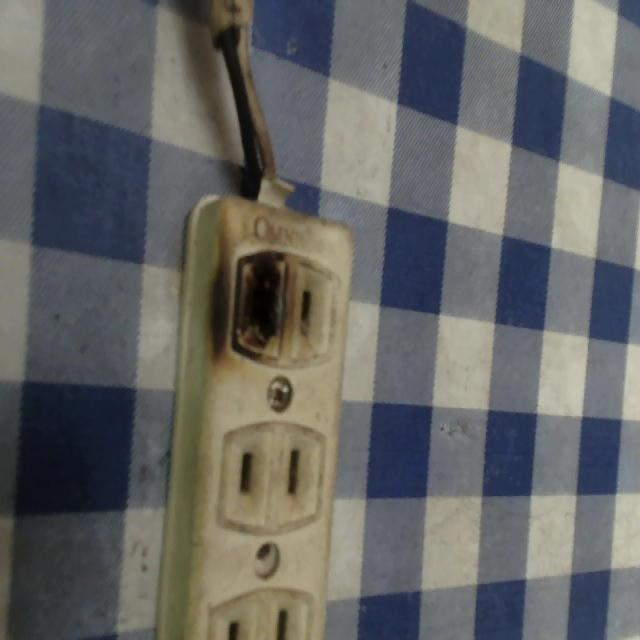-: (223, 242, 295, 354)
